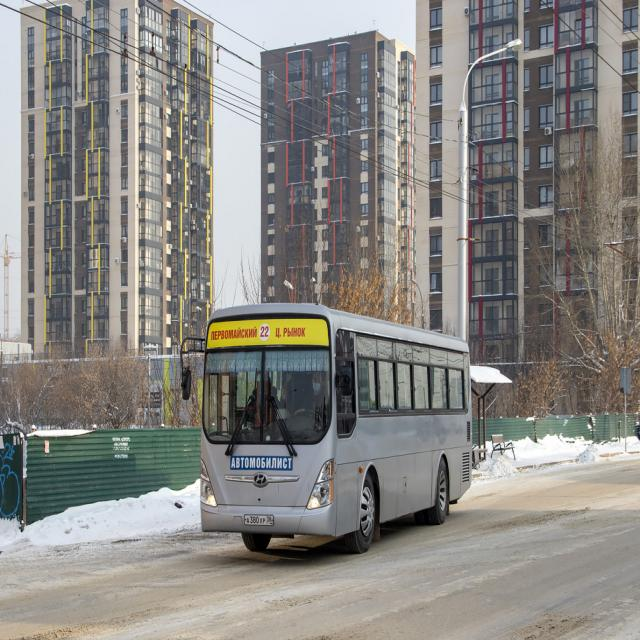number-of-bus: (260, 326, 271, 341)
